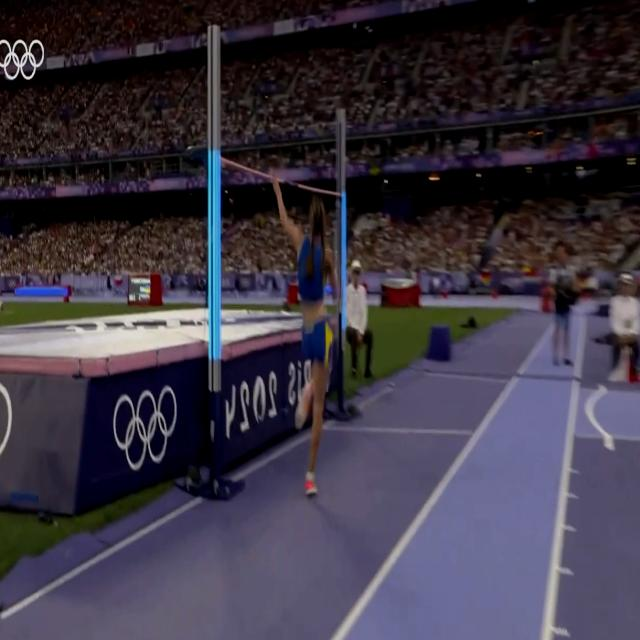jump: (271, 163, 341, 496)
